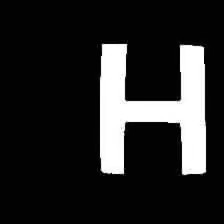LTR_H: (90, 35, 213, 178)
